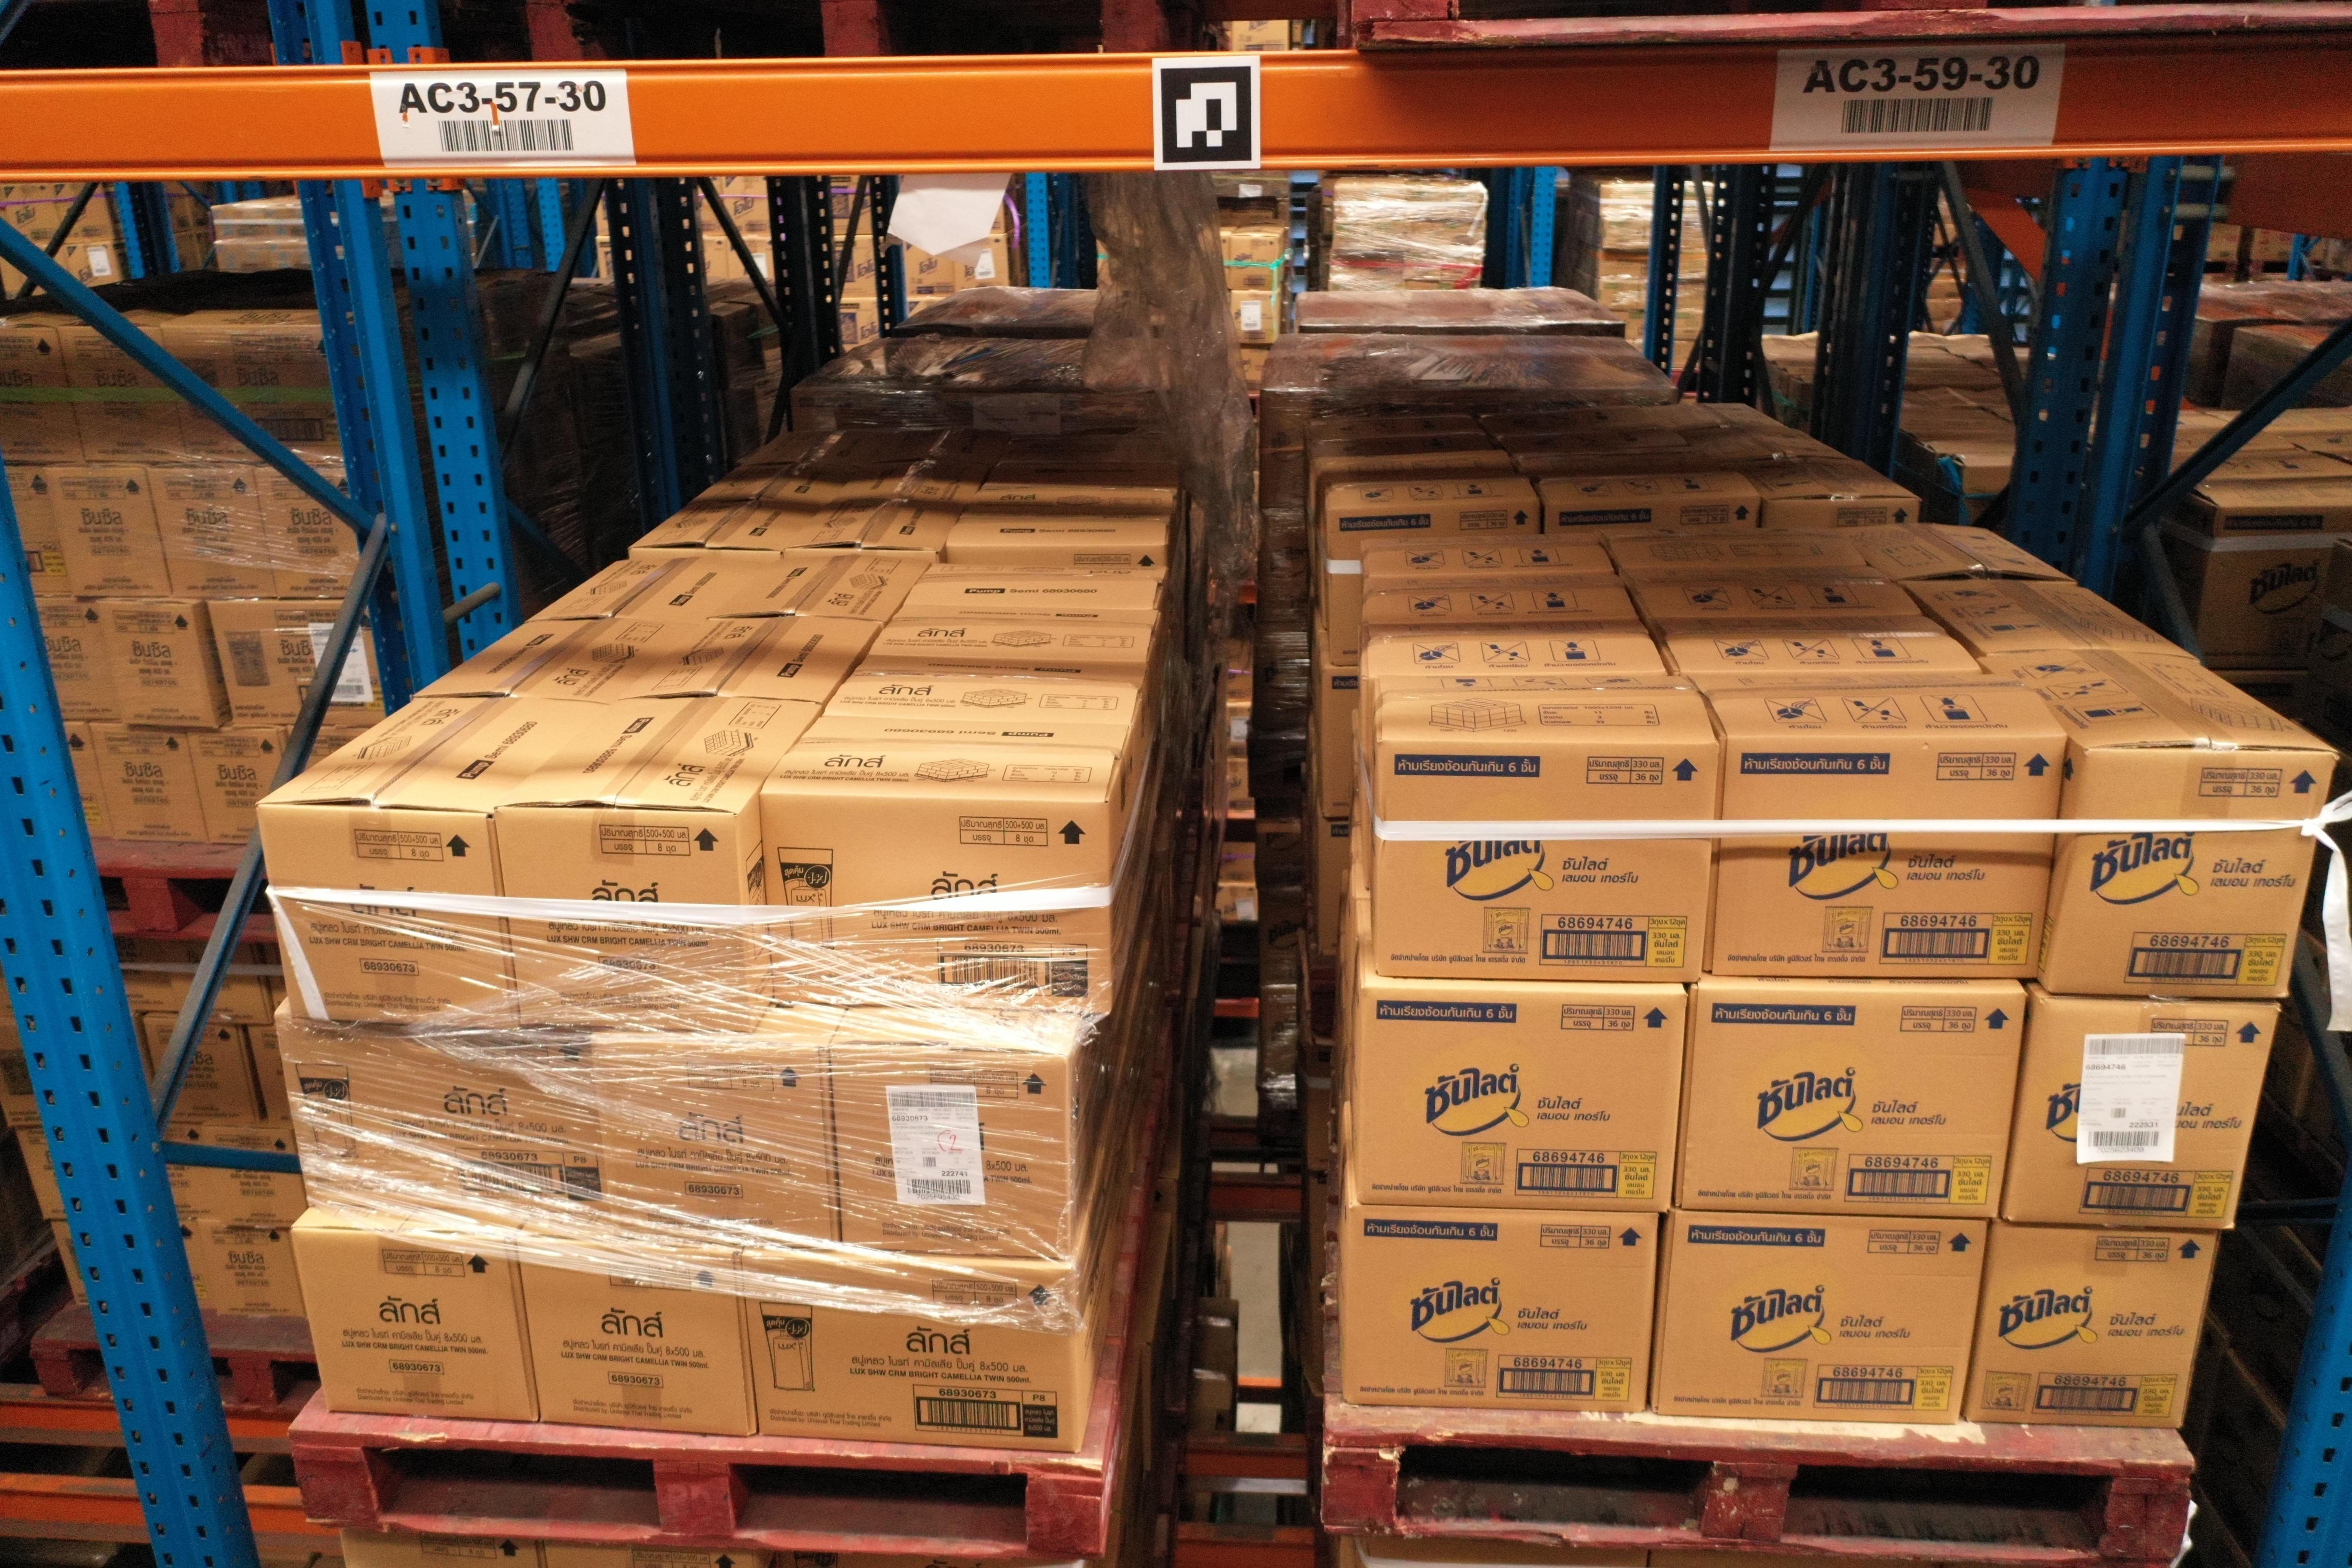-: (1711, 737, 2065, 980), (1372, 745, 1722, 983), (1678, 978, 2023, 1218), (756, 786, 1115, 1015), (1358, 980, 1687, 1216), (2044, 745, 2336, 999), (271, 1017, 609, 1235), (1650, 1207, 1990, 1424), (733, 1251, 1078, 1452), (1344, 1200, 1661, 1416), (2004, 990, 2280, 1234), (492, 800, 754, 1036), (255, 800, 520, 1034), (588, 1031, 836, 1251), (828, 1046, 1073, 1260), (1967, 1221, 2215, 1430), (289, 1228, 537, 1423), (516, 1246, 754, 1438)
box: (164, 322, 346, 462), (206, 595, 385, 726), (56, 324, 191, 464), (147, 462, 280, 598), (42, 462, 175, 597), (96, 597, 219, 731), (255, 458, 371, 595), (89, 721, 212, 845), (138, 1011, 262, 1129), (189, 728, 297, 849), (28, 595, 122, 724), (198, 1123, 311, 1227), (194, 1216, 308, 1316), (0, 462, 75, 598), (161, 941, 273, 1024), (112, 938, 180, 1017)
